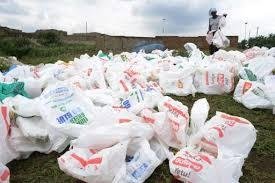Plastic bag: (168, 126, 266, 183), (60, 135, 154, 183), (112, 87, 188, 137), (43, 87, 108, 133), (192, 58, 244, 97), (237, 74, 272, 110), (1, 75, 33, 106), (183, 98, 211, 131), (201, 31, 234, 53)
